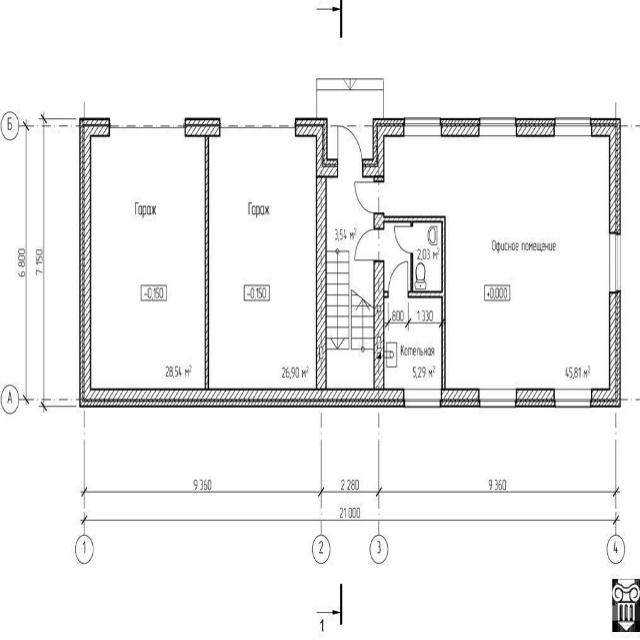Bathrooms: (413, 223, 441, 291)
Corridors: (91, 137, 204, 387), (209, 138, 315, 387), (384, 299, 441, 388), (327, 178, 373, 246), (327, 118, 372, 159), (384, 222, 410, 290)
Doors: (109, 118, 185, 137), (220, 118, 296, 137), (337, 125, 363, 177), (354, 180, 384, 216), (354, 227, 384, 262), (388, 258, 409, 298), (393, 225, 413, 255)
LBwalls: (79, 118, 405, 409), (590, 291, 621, 408), (591, 118, 621, 235), (362, 118, 405, 182), (295, 117, 338, 178), (316, 177, 327, 389), (373, 260, 384, 388), (185, 116, 221, 138), (515, 388, 556, 407), (440, 118, 480, 137), (515, 118, 555, 137), (440, 389, 480, 407), (373, 212, 384, 230)
Offices: (385, 137, 609, 388)
Stairs: (327, 247, 373, 388), (316, 77, 385, 118)
Walls: (384, 216, 446, 389), (205, 137, 209, 389), (384, 291, 388, 298)
Windows: (404, 388, 441, 408), (403, 117, 441, 136), (480, 117, 517, 136), (554, 388, 591, 407), (480, 388, 516, 407), (609, 233, 620, 292), (555, 118, 591, 136)
